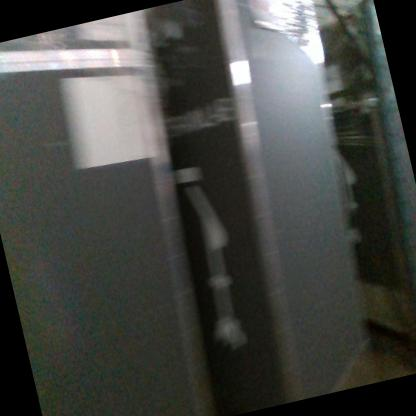pallet: (368, 305, 416, 380)
